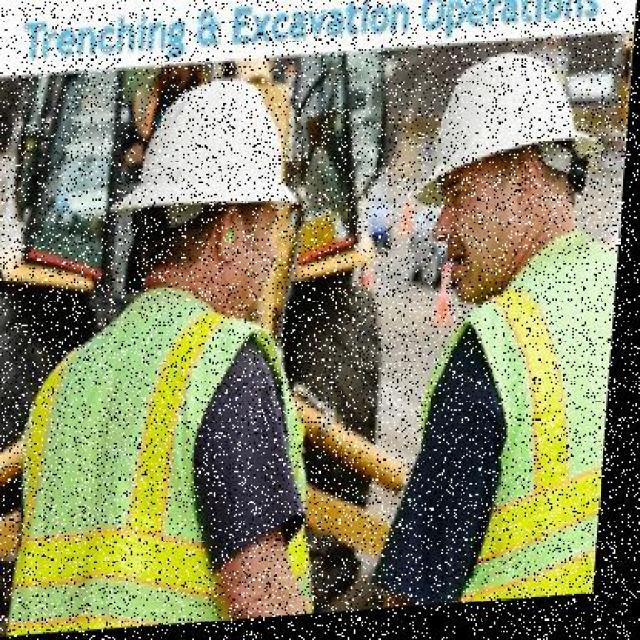helmet: (105, 80, 333, 246), (411, 63, 621, 205)
vest: (5, 268, 355, 622), (395, 241, 621, 611)
